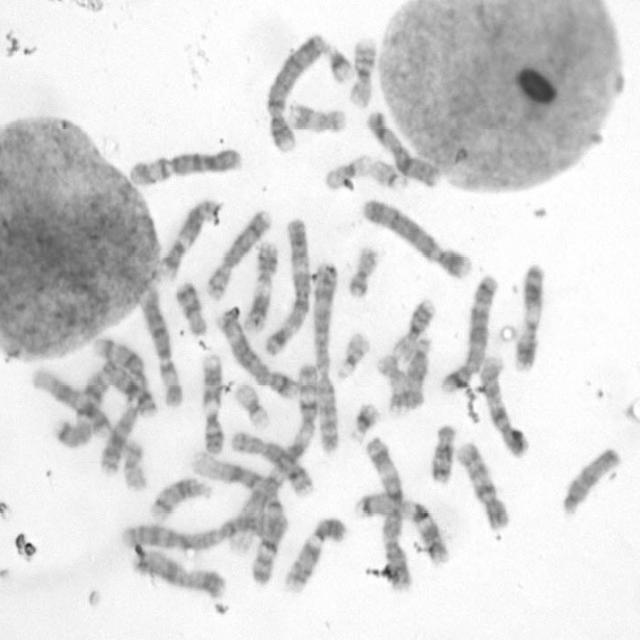A1: (224, 365, 320, 555), (188, 447, 286, 588)
A2: (117, 510, 287, 553), (309, 258, 341, 455)
A3: (362, 431, 412, 594), (260, 214, 311, 358)
B4: (358, 193, 474, 283), (263, 30, 327, 156)
B5: (214, 306, 298, 402), (437, 268, 500, 396)
C10: (476, 352, 531, 459), (453, 437, 511, 533)
C11: (510, 259, 546, 374), (240, 237, 280, 334)
C12: (28, 363, 111, 438), (158, 194, 221, 279)
C6: (137, 283, 184, 409), (125, 142, 244, 188)
C7: (352, 489, 451, 566), (53, 364, 119, 448)
C8: (202, 205, 273, 301), (228, 426, 313, 498)
C9: (280, 512, 348, 596), (198, 350, 226, 456)
D13: (95, 398, 138, 477), (102, 366, 158, 422)
D14: (146, 474, 212, 522), (103, 338, 154, 391)
D15: (558, 444, 621, 518), (403, 336, 435, 412)
E16: (390, 294, 437, 357), (344, 34, 378, 108)
E17: (375, 348, 412, 418), (286, 99, 348, 135)
E18: (172, 277, 209, 337), (426, 419, 458, 484)
F19: (230, 378, 272, 432), (320, 150, 372, 191)
F20: (344, 242, 380, 298), (120, 436, 148, 493)
G21: (347, 398, 381, 446), (323, 40, 355, 84)
G22: (332, 327, 372, 382), (366, 156, 411, 192)
X: (363, 107, 441, 191), (130, 544, 228, 602)
